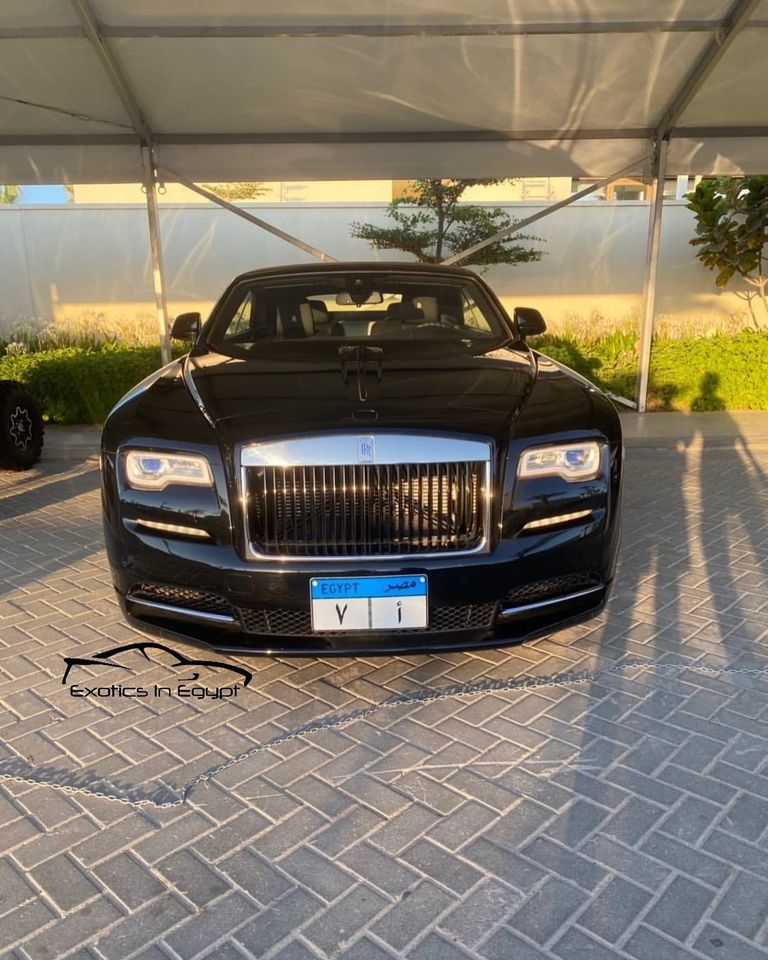carpl: (310, 577, 427, 634)
